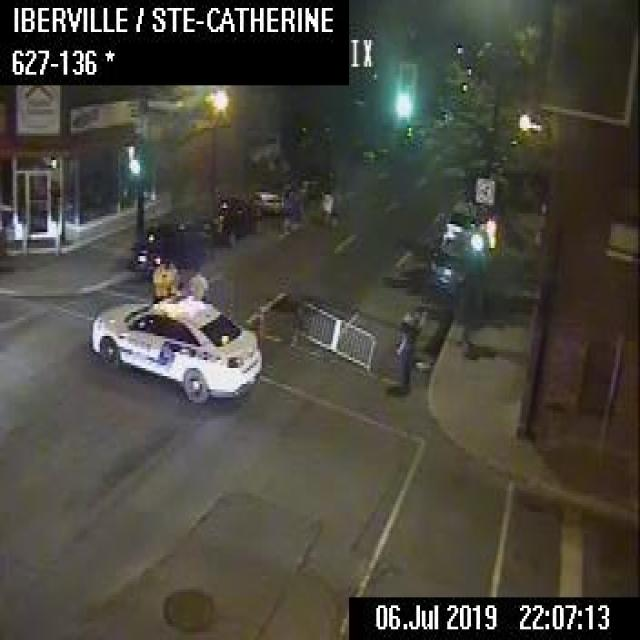construction: (294, 299, 376, 368)
pedestrian: (391, 309, 416, 384), (149, 257, 178, 299), (185, 264, 209, 301), (318, 184, 335, 235), (280, 185, 296, 235)
vehicle: (89, 288, 262, 403), (127, 215, 209, 272), (198, 192, 263, 246), (427, 241, 465, 295), (252, 177, 307, 212), (441, 197, 476, 250)
